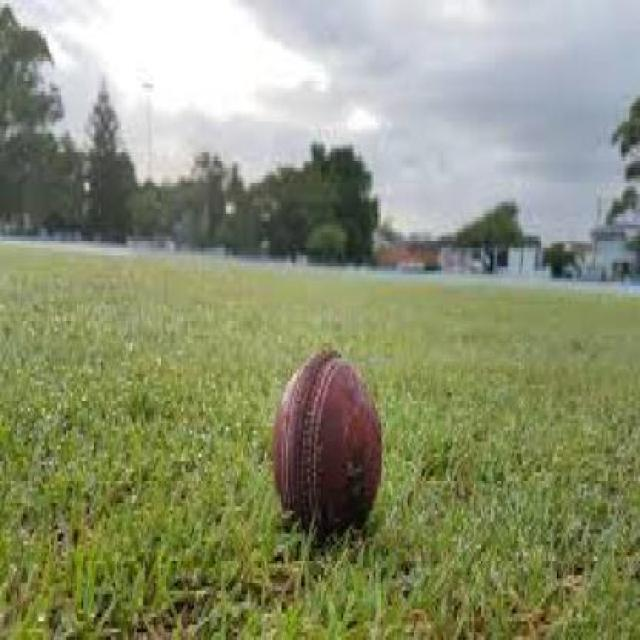ball: (238, 314, 437, 582)
